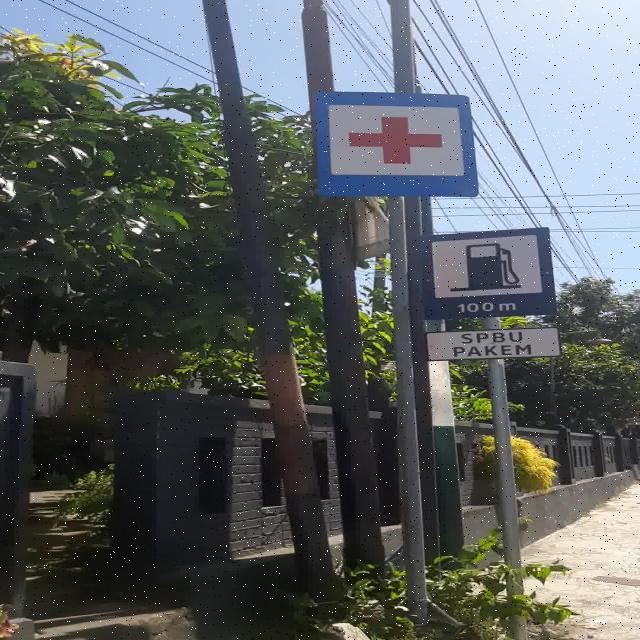Balai Pertolongan Pertama: (315, 91, 478, 198)
Pom Bensin: (422, 228, 559, 318)
